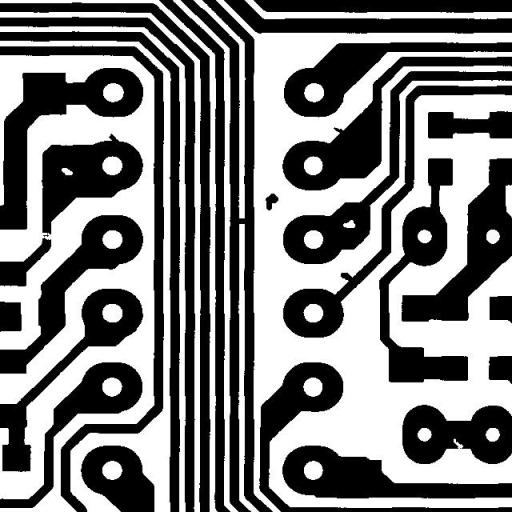copper: (258, 186, 286, 218)
mousebite: (446, 430, 470, 456)
open: (32, 225, 62, 247)
pin-hole: (336, 212, 362, 235), (54, 160, 80, 182)
short: (227, 210, 255, 232)
spur: (333, 265, 360, 289), (101, 126, 127, 150), (326, 119, 352, 141)
